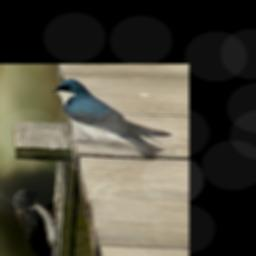Swallow: (51, 79, 172, 156)
